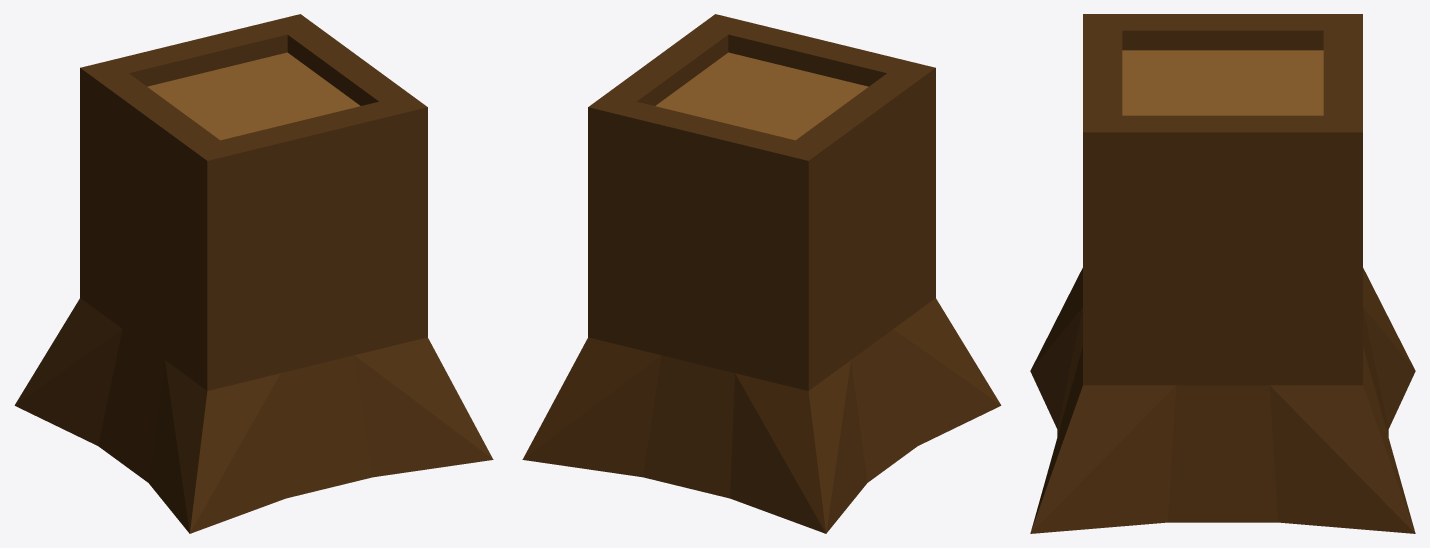
Rendered from FarmTreeTrunk_02.fbx.
The picture shows the model from 3 angles, left to right: view 1: azimuth 30°, elevation 25°; view 2: azimuth 150°, elevation 25°; view 3: azimuth 270°, elevation 25°; orthographic projection. The views are drawn at different scales.
Visible parts, largest first — view 1: FarmTreeTrunk_02; view 2: FarmTreeTrunk_02; view 3: FarmTreeTrunk_02.
Part boxes in pixels (x1,y1,x2,y2): FarmTreeTrunk_02: (14, 14, 493, 533); FarmTreeTrunk_02: (522, 14, 1001, 533); FarmTreeTrunk_02: (1030, 14, 1415, 533).
Bounding box in the file's own units: 0.1002 × 0.1088 × 0.1002.
